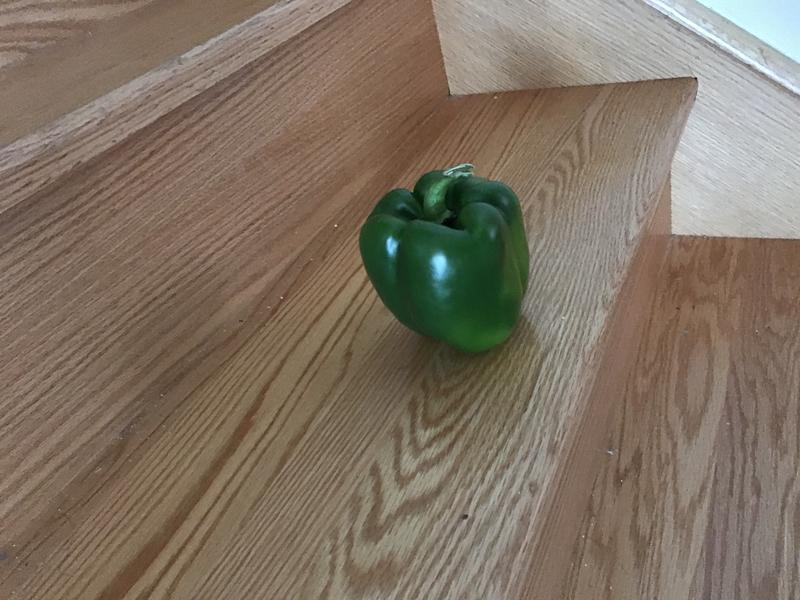green_pepper: (347, 160, 541, 361)
